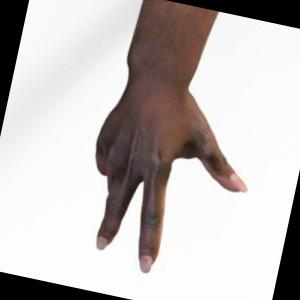scissors: (95, 0, 246, 273)
